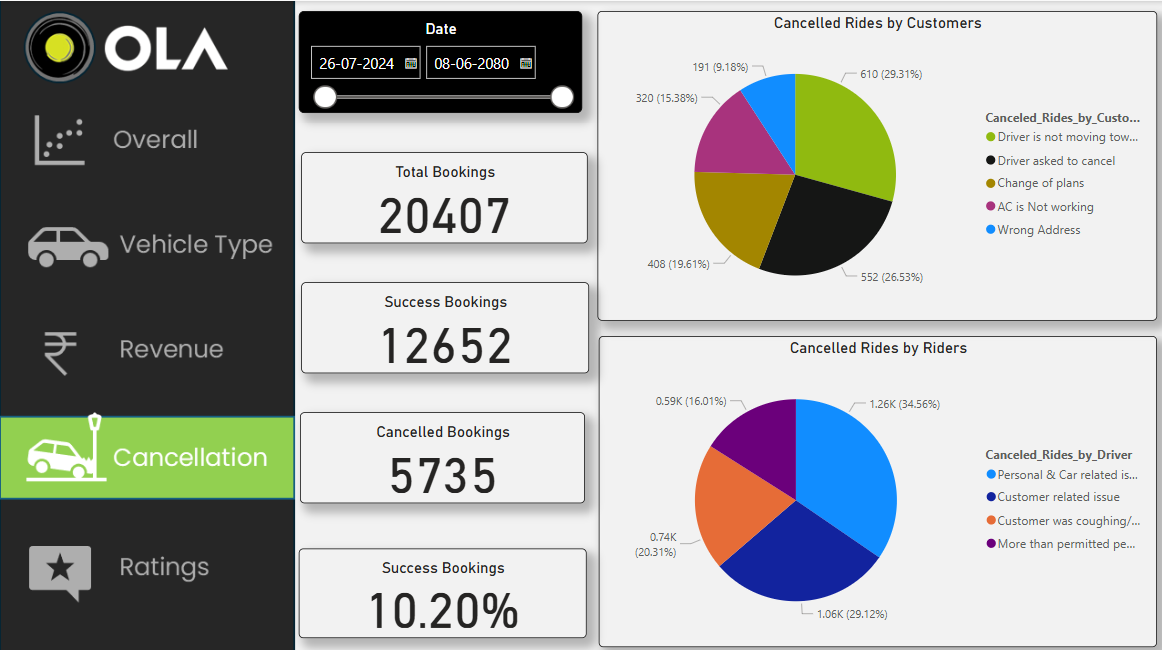

The page's visual inventory and layout, read from the dashboard file:
{"tool":"powerbi","page":{"name":"Cancellation","canvas":[1280,720],"ordinal":3},"visuals":[{"type":"actionButton","box":[0,220.8,324.5,91.7],"z":0},{"type":"actionButton","box":[0,339,324.5,91.7],"z":1000},{"type":"actionButton","box":[0,454.8,324.5,91.7],"z":2000},{"type":"actionButton","box":[0,581.5,324.5,91.7],"z":3000},{"type":"actionButton","box":[1.2,112.2,324.5,91.7],"z":4000},{"type":"pieChart","title":"Cancelled Rides by Customers","fields":{"Category":["Bookings.Canceled_Rides_by_Customer"],"Y":["CountNonNull(Bookings.Canceled_Rides_by_Customer)"]},"box":[656.3,10.9,614.1,340.2],"z":5000},{"type":"pieChart","title":"Cancelled Rides by Riders","fields":{"Category":["Bookings.Canceled_Rides_by_Driver"],"Y":["CountNonNull(Bookings.Canceled_Rides_by_Driver)"]},"box":[657.5,368,612.9,341.4],"z":6000},{"type":"slicer","title":"Date","fields":{"Values":["Bookings.Date"]},"box":[328.2,10.9,311.3,112.2],"z":7000},{"type":"card","title":"Total Bookings","fields":{"Values":["Count(Bookings.Booking_ID)"]},"box":[330.7,166,314.2,100.2],"z":8000},{"type":"card","title":"Success Bookings","fields":{"Values":["Count(Bookings.Booking_ID)"]},"box":[330.7,308.7,315.6,100.2],"z":9000},{"type":"card","title":"Cancelled Bookings","fields":{"Values":["Count(Bookings.Booking_ID)"]},"box":[329.3,451.5,312.9,100.2],"z":10000},{"type":"card","title":"Success Bookings","fields":{"Values":["Bookings.CancelledPercentage"]},"box":[328,601,315.6,98.8],"z":11000}]}

Visuals, with their boxes on the page's 1280x720 design canvas (x1, y1, x2, y2). These are canvas units, not pixel positions in the 1162x650 screenshot, which may show the page scaled, cropped or inside an application window:
actionButton: 0, 221, 324, 312
actionButton: 0, 339, 324, 431
actionButton: 0, 455, 324, 546
actionButton: 0, 582, 324, 673
actionButton: 1, 112, 326, 204
"Cancelled Rides by Customers" pieChart: 656, 11, 1270, 351
"Cancelled Rides by Riders" pieChart: 658, 368, 1270, 709
"Date" slicer: 328, 11, 640, 123
"Total Bookings" card: 331, 166, 645, 266
"Success Bookings" card: 331, 309, 646, 409
"Cancelled Bookings" card: 329, 452, 642, 552
"Success Bookings" card: 328, 601, 644, 700
